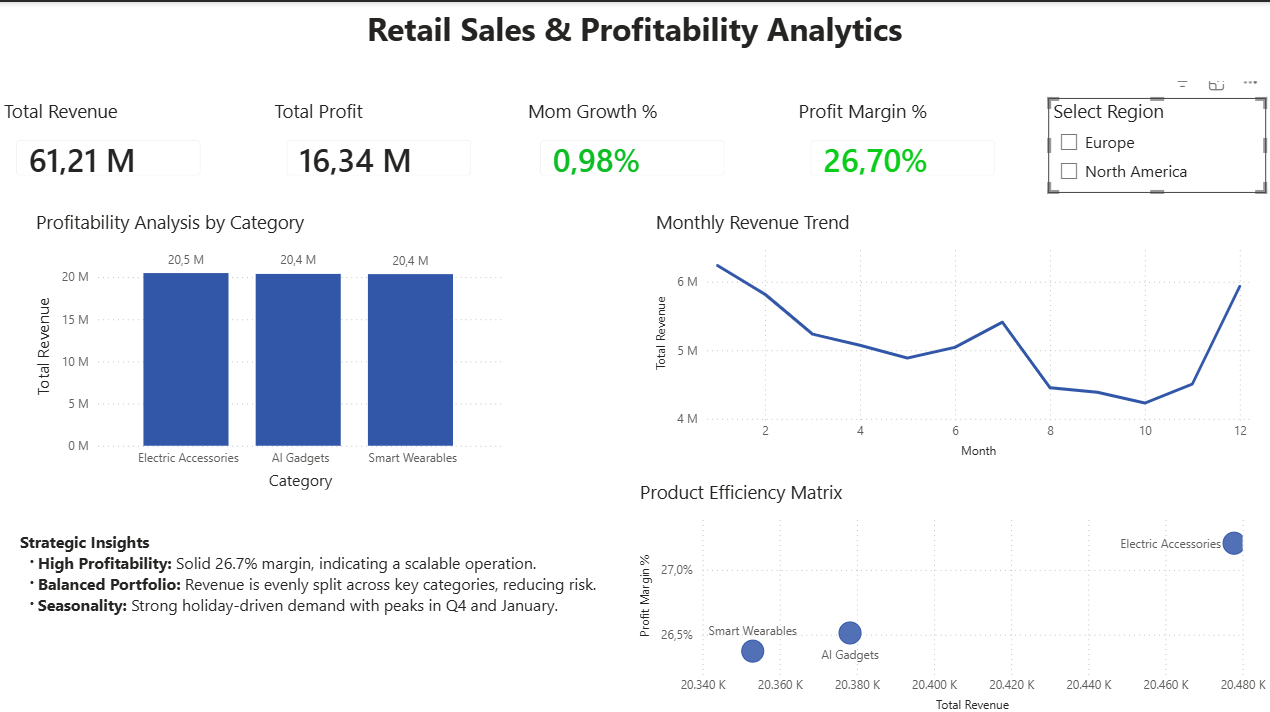

This screenshot's page, from the dashboard's own definition file:
{"tool":"powerbi","page":{"name":"Página 1","canvas":[1280,720],"ordinal":0},"visuals":[{"type":"clusteredColumnChart","title":"Profitability Analysis by Category","fields":{"Category":["products_clean.category"],"Y":["_Medidas.Total Revenue"]},"box":[32,208,480,288],"z":0},{"type":"cardVisual","title":"Total Revenue","fields":{"Data":["_Medidas.Total Revenue"]},"box":[0,96,220,96],"z":1000},{"type":"cardVisual","title":"Total Profit","fields":{"Data":["_Medidas.Total Profit"]},"box":[272,96,220,96],"z":2000},{"type":"cardVisual","title":"Profit Margin %","fields":{"Data":["_Medidas.Profit Margin %"]},"box":[800,96,220,96],"z":3000},{"type":"lineChart","title":"Monthly Revenue Trend","fields":{"Category":["calendar_clean.month"],"Y":["_Medidas.Total Revenue"]},"box":[656,208,608,256],"z":4000},{"type":"slicer","title":"Select Region","fields":{"Values":["stores_clean.region"]},"box":[1056,96,220,96],"z":5000},{"type":"textbox","box":[0,0,1280,80],"z":6000},{"type":"textbox","box":[16,528,608,192],"z":6001},{"type":"scatterChart","title":"Product Efficiency Matrix","fields":{"Category":["products_clean.category"],"X":["_Medidas.Total Revenue"],"Y":["_Medidas.Profit Margin %"],"Size":["_Medidas.Total Revenue"]},"box":[640,480,640,240],"z":6002},{"type":"cardVisual","title":"Mom Growth %","fields":{"Data":["_Medidas.MoM Growth %"]},"box":[528,96,220,96],"z":6003}]}

Visuals, with their boxes in screenshot pixels (x1, y1, x2, y2), scaled from the page's 1280x720 canvas onto the 1270x712 screenshot:
"Profitability Analysis by Category" clusteredColumnChart: (32,206,508,490)
"Total Revenue" cardVisual: (0,95,218,190)
"Total Profit" cardVisual: (270,95,488,190)
"Profit Margin %" cardVisual: (794,95,1012,190)
"Monthly Revenue Trend" lineChart: (651,206,1254,459)
"Select Region" slicer: (1048,95,1266,190)
textbox: (0,0,1269,79)
textbox: (16,522,619,711)
"Product Efficiency Matrix" scatterChart: (635,475,1269,711)
"Mom Growth %" cardVisual: (524,95,742,190)
